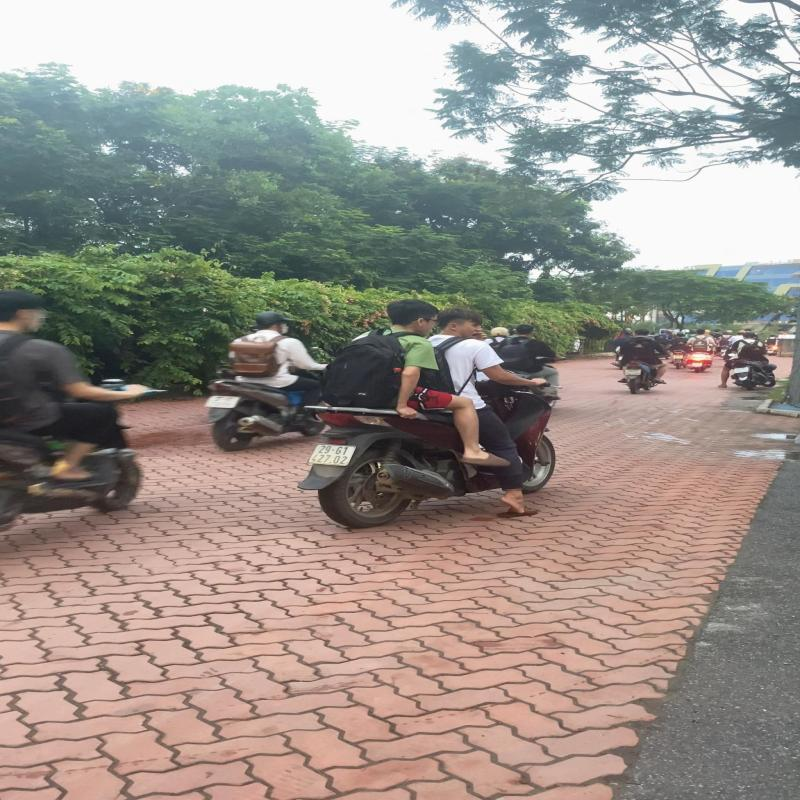licenseplate: (308, 444, 360, 466)
motorcyclist: (292, 296, 568, 529)
nohelmet: (388, 299, 438, 330), (436, 308, 482, 337)
